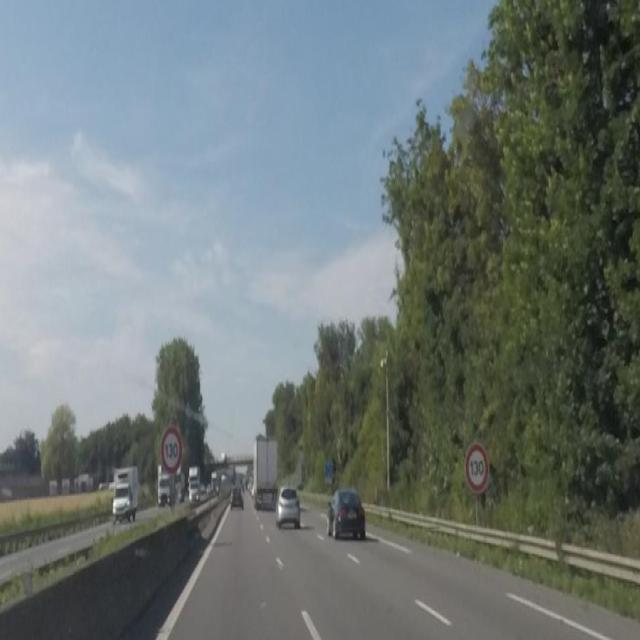speed_130: (466, 445, 489, 491), (162, 425, 182, 473)
